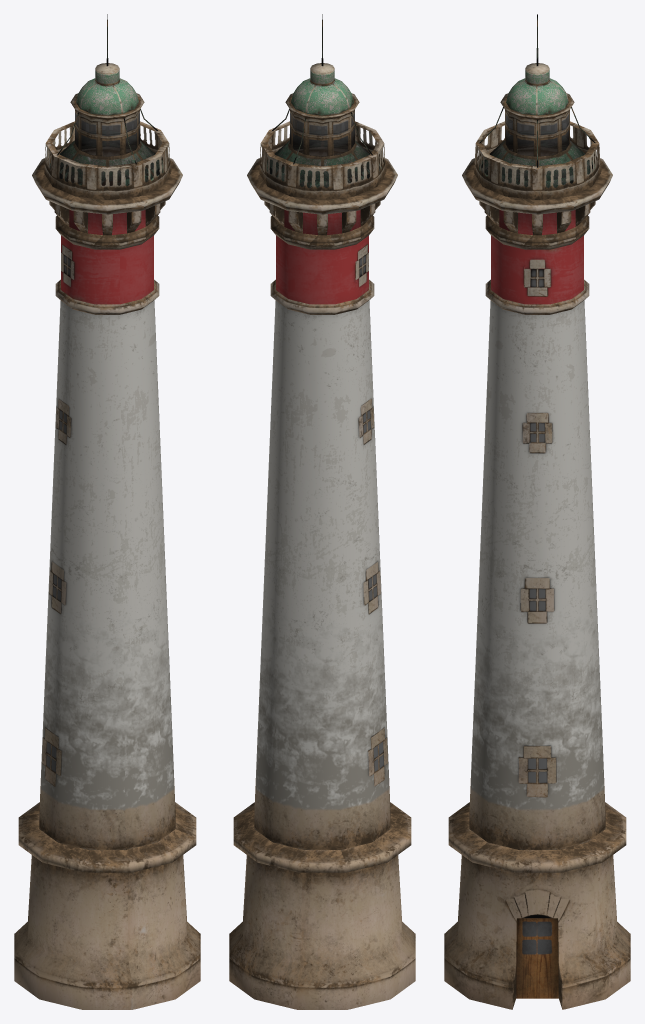
Rendered from lighthouse_9.glb.
3 views of the same model, side by side, from view 1: azimuth 30°, elevation 25°; view 2: azimuth 150°, elevation 25°; view 3: azimuth 270°, elevation 25° (orthographic).
Parts seen in each view (by area): view 1: LowPoly; view 2: LowPoly; view 3: LowPoly.
Part boxes in pixels (<box>): LowPoly: <box>14,14,200,1009</box>; LowPoly: <box>229,14,415,1009</box>; LowPoly: <box>444,14,630,1009</box>.
Size of the model in its own units: 0.2897 by 1.64 by 0.2897.
Materials: 1 (1 with a texture image).
